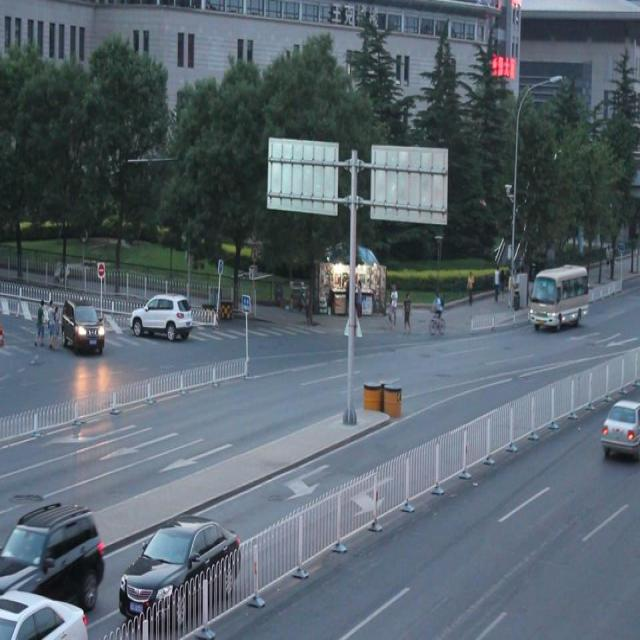car: (120, 512, 242, 626), (0, 501, 104, 608), (0, 585, 89, 640), (128, 292, 192, 342), (61, 295, 106, 350), (599, 396, 640, 451)
truck: (529, 264, 587, 324)
